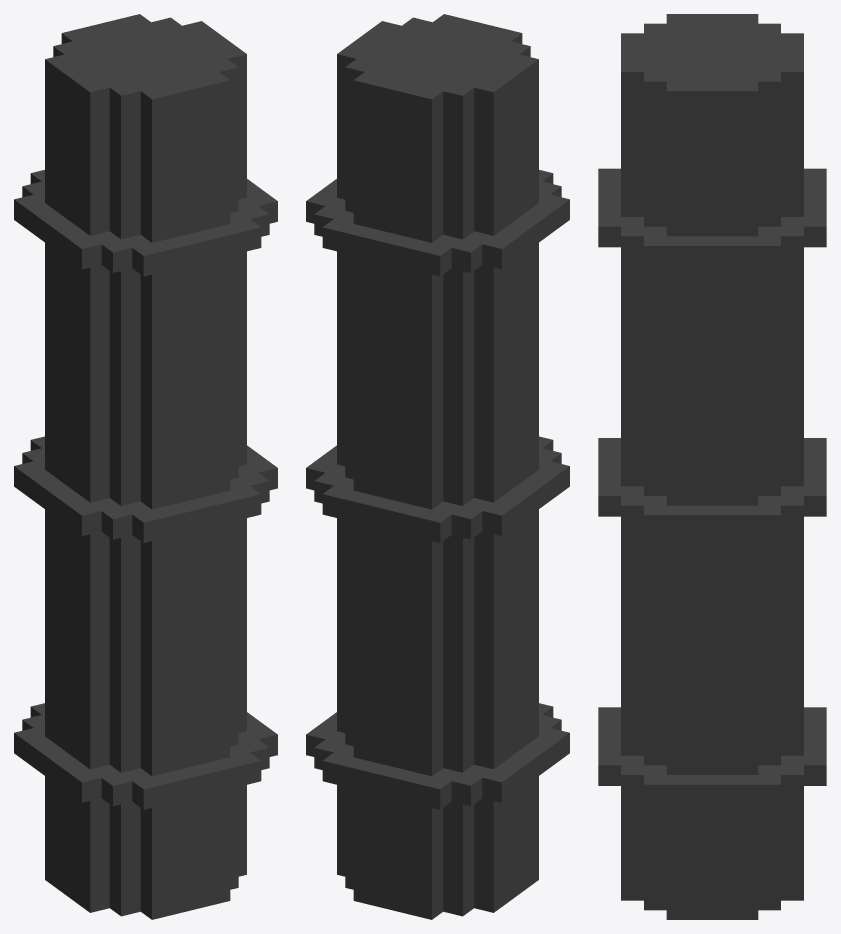
The model's file is PipeTop.obj.
3 views of the same model, side by side, from view 1: azimuth 30°, elevation 25°; view 2: azimuth 150°, elevation 25°; view 3: azimuth 270°, elevation 25° (orthographic).
Bounding box in the file's own units: 1 × 4 × 1.
Materials: 1 (1 with a texture image).
